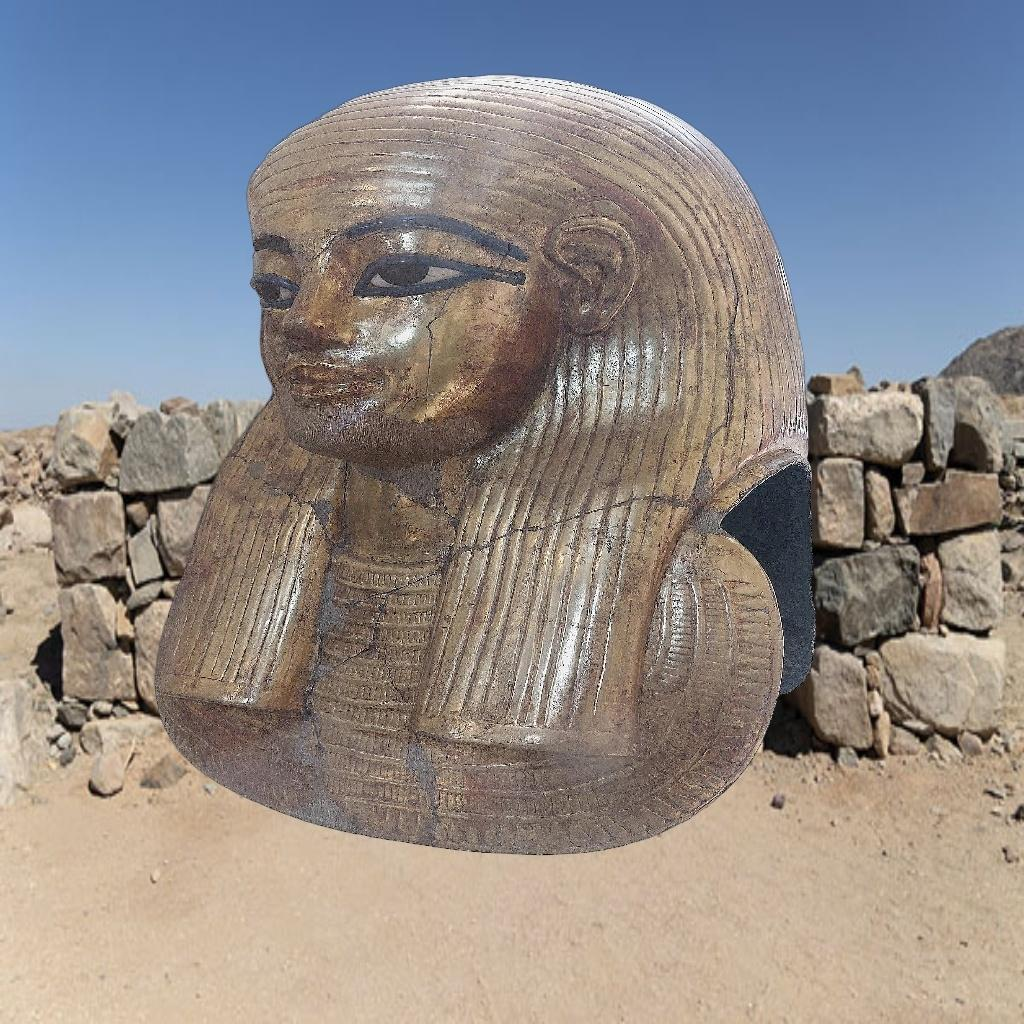Mask of Yuya: (152, 74, 818, 856)
